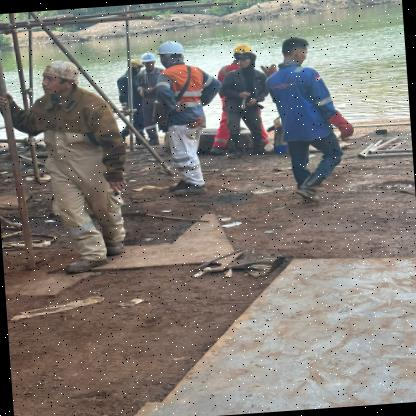bota: (296, 171, 325, 205), (62, 255, 111, 273), (174, 180, 210, 198), (103, 236, 132, 258), (170, 178, 192, 192), (226, 148, 249, 160), (251, 144, 274, 156), (210, 144, 230, 156), (141, 136, 164, 146)
